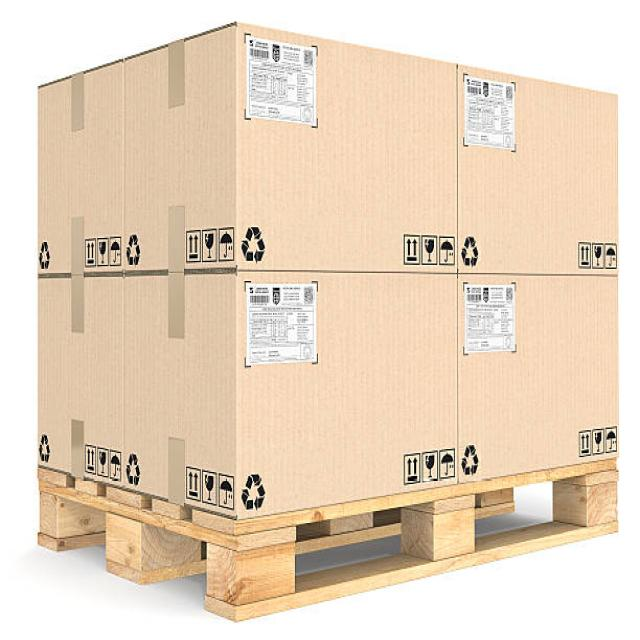Wooden-Pallets: (33, 465, 624, 621)
